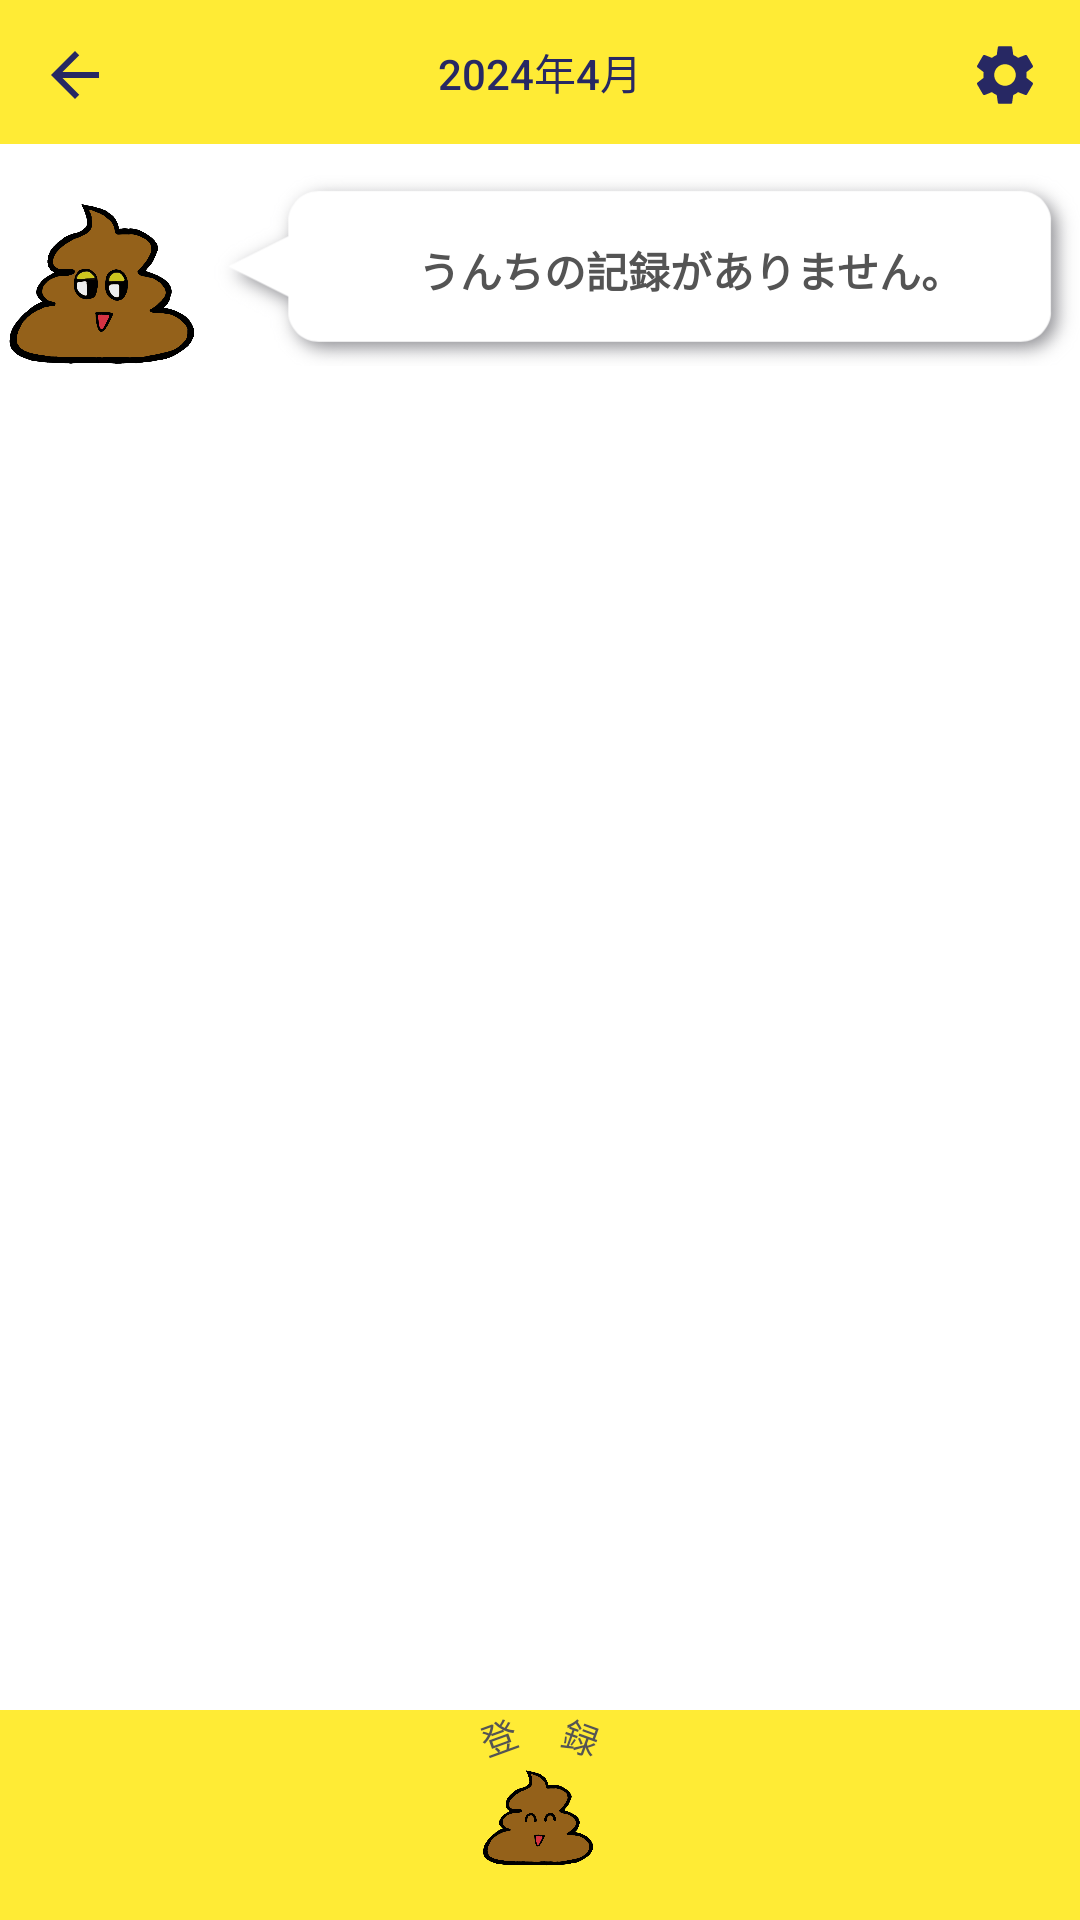

Where to tap for icons on this 1080w x 1920h app screen, as (x=x, y=y):
back: (x=75, y=75)
poop: (x=101, y=284)
settings: (x=1005, y=75)
